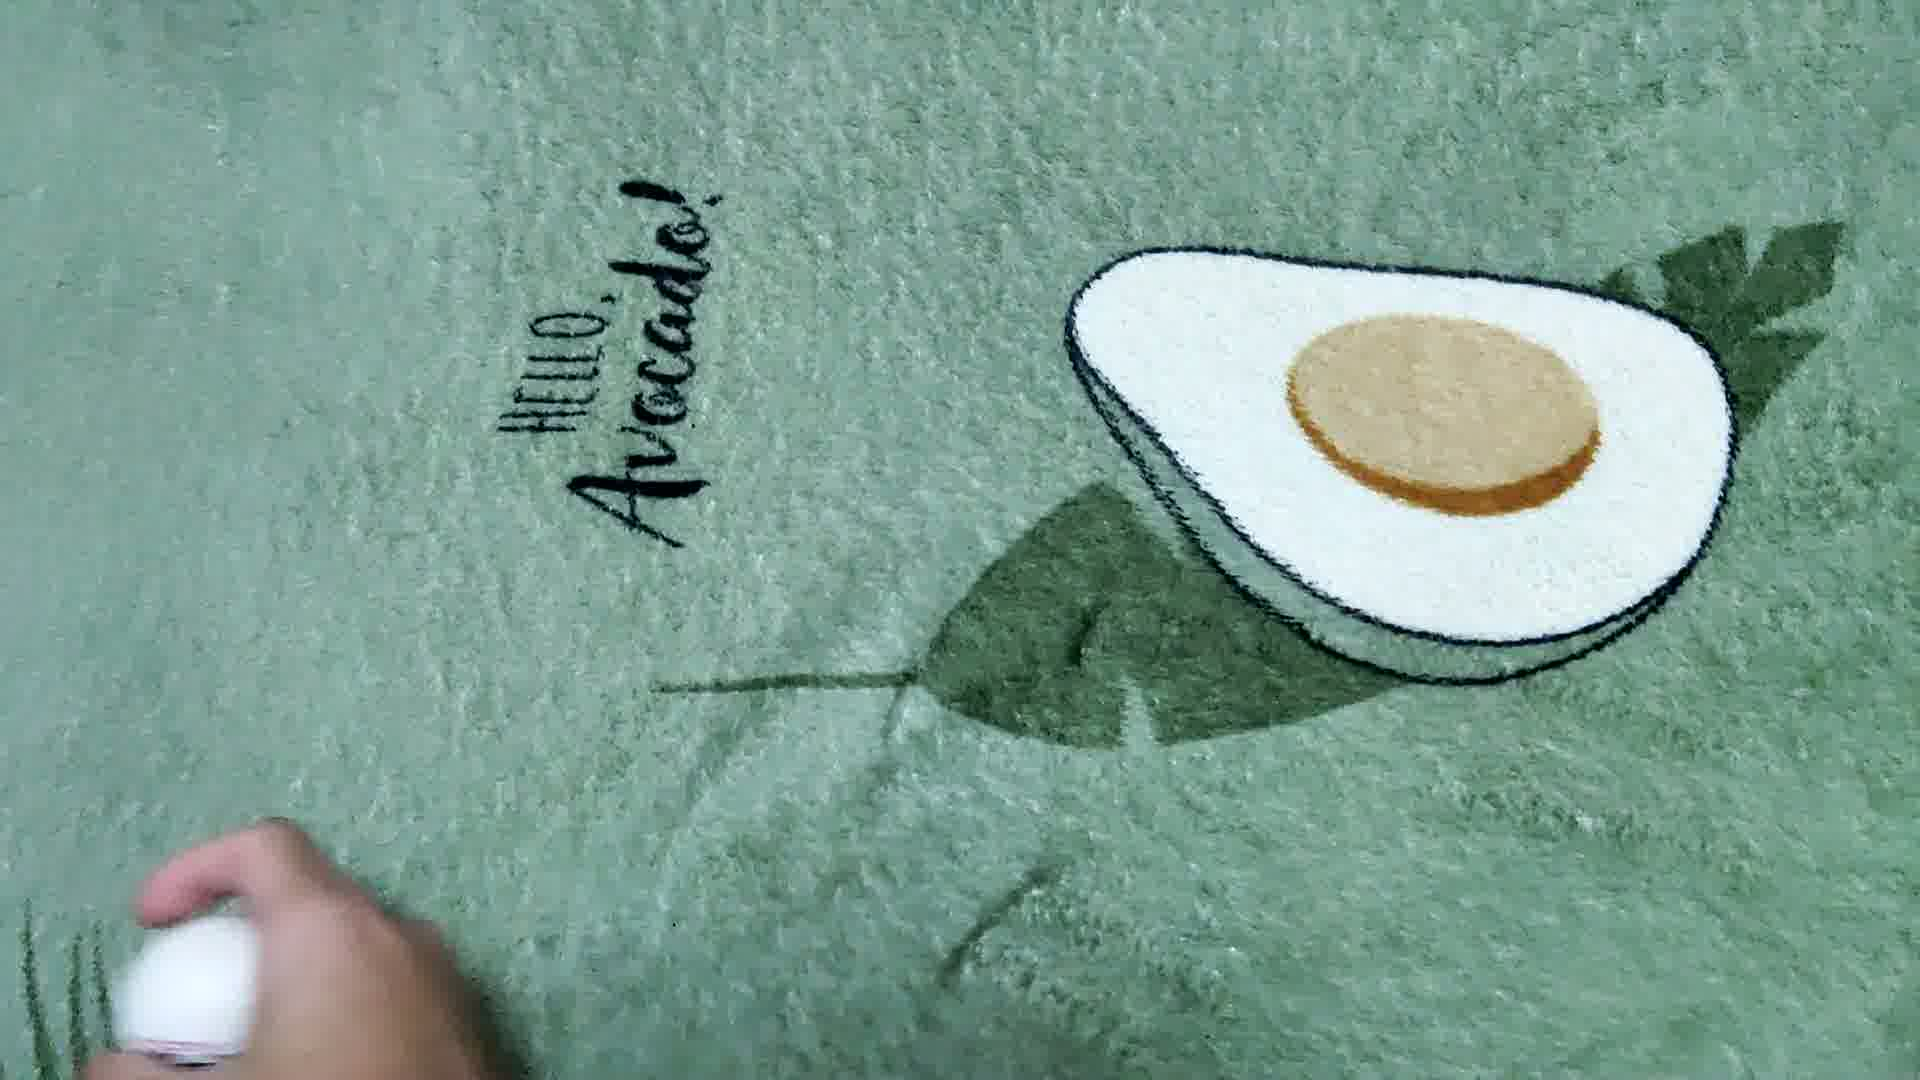Ball: (112, 909, 285, 1069)
